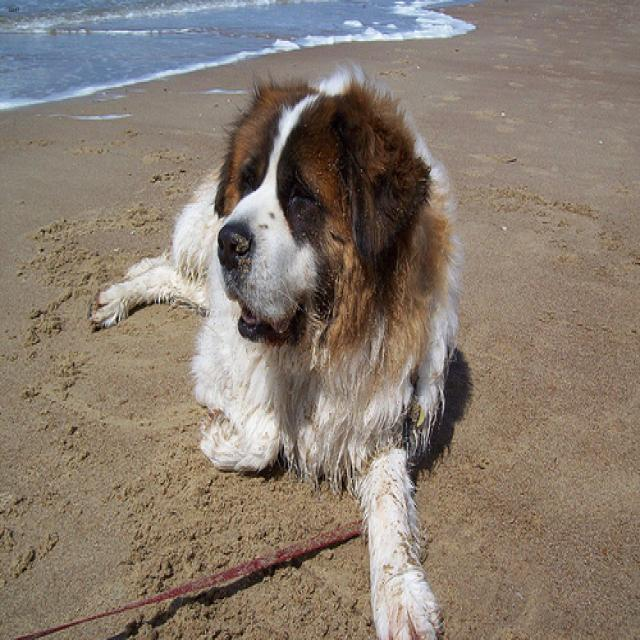dog-saint_bernard: (81, 60, 468, 637)
